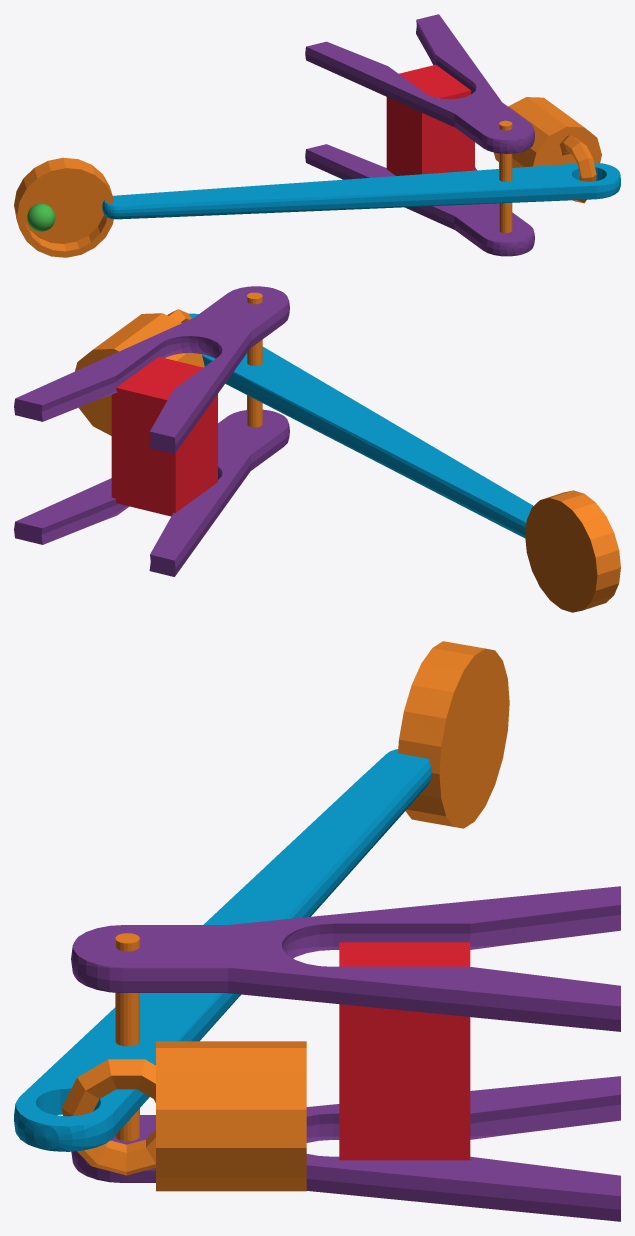
Rendered from tinker.obj.
3 renders of one model, top to bottom at view 1: azimuth 30°, elevation 25°; view 2: azimuth 150°, elevation 25°; view 3: azimuth 270°, elevation 25°, orthographic. The views are drawn at different scales.
Visible parts, largest first — view 1: group_0_40919, group_0_8273816, group_0_16089887, group_0_15277357, group_0_4634441; view 2: group_0_8273816, group_0_40919, group_0_16089887, group_0_15277357; view 3: group_0_8273816, group_0_16089887, group_0_40919, group_0_15277357.
Part boxes in pixels (box(x1,y1,x2,y2)): group_0_40919: box(102, 162, 620, 219); group_0_8273816: box(305, 14, 534, 256); group_0_16089887: box(14, 97, 601, 257); group_0_15277357: box(386, 64, 474, 175); group_0_4634441: box(27, 203, 55, 231); group_0_8273816: box(14, 286, 289, 576); group_0_40919: box(189, 313, 533, 537); group_0_16089887: box(75, 292, 620, 612); group_0_15277357: box(111, 357, 217, 516); group_0_8273816: box(71, 886, 620, 1221); group_0_16089887: box(62, 641, 509, 1191); group_0_40919: box(14, 749, 431, 1151); group_0_15277357: box(339, 942, 470, 1160).
Size of the model in its own units: 83.9 by 20 by 47.54.
